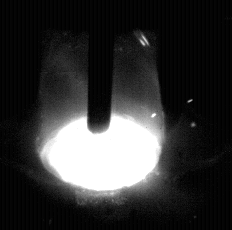arame: (88, 0, 112, 133)
poca: (36, 0, 164, 230)
